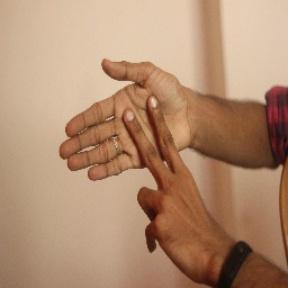N: (57, 53, 214, 244)
